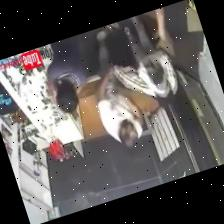person: (113, 16, 176, 106), (96, 30, 142, 149), (124, 16, 176, 101), (46, 36, 87, 112), (153, 7, 173, 55)
